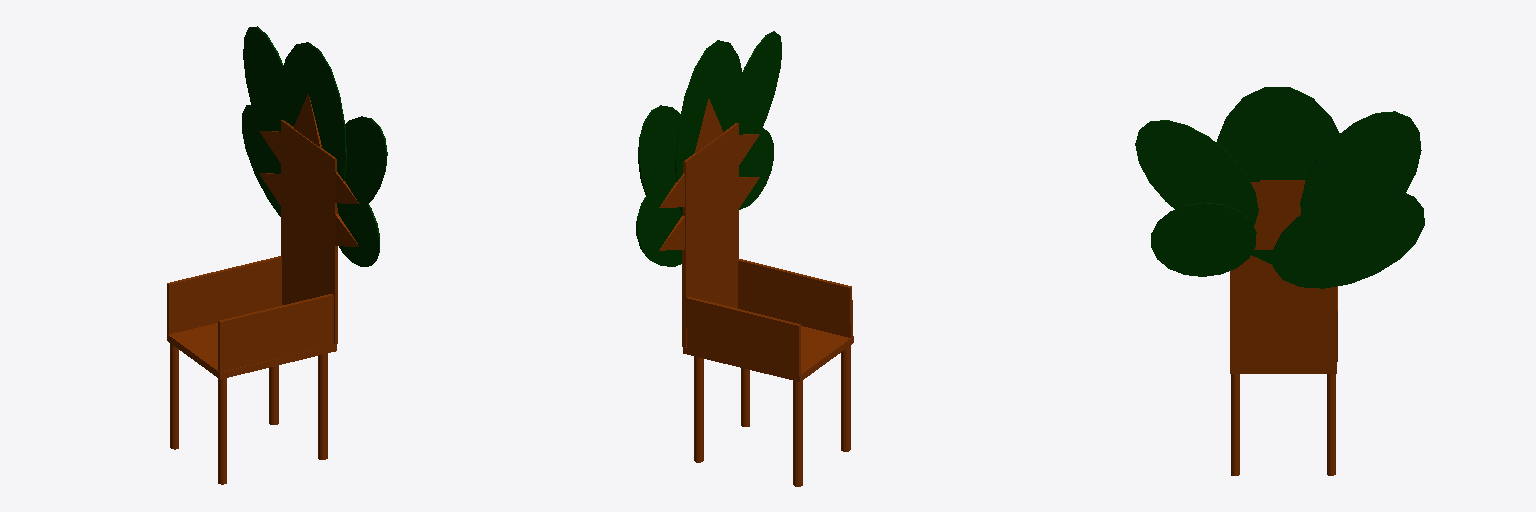
Rendered from trono.obj.
3 views of the same model, side by side, from view 1: azimuth 30°, elevation 25°; view 2: azimuth 150°, elevation 25°; view 3: azimuth 270°, elevation 25° (orthographic).
Visible parts, largest first — view 1: asiento001, asiento002, asiento003, Cylinder003, Cylinder001, Cylinder004, asiento, Cylinder002, Cylinder005, Cylinder009, Cylinder006, Cylinder007 (+2 smaller); view 2: asiento001, asiento003, asiento002, Cylinder003, Cylinder004, Cylinder001, asiento, Cylinder005, Cylinder002, Cylinder007, Cylinder008, Cylinder006 (+1 smaller); view 3: asiento001, Cylinder004, Cylinder003, Cylinder005, Cylinder001, Cylinder002, Cylinder009, Cylinder008, asiento.
Boxes of the visible parts, <box> form: asiento001: <box>281,120,337,344</box>; asiento002: <box>218,294,333,371</box>; asiento003: <box>167,256,281,334</box>; Cylinder003: <box>276,42,346,207</box>; Cylinder001: <box>338,116,387,212</box>; Cylinder004: <box>243,26,283,161</box>; asiento: <box>167,323,336,379</box>; Cylinder002: <box>338,204,379,266</box>; Cylinder005: <box>242,104,280,216</box>; Cylinder009: <box>318,353,327,459</box>; Cylinder006: <box>218,378,226,484</box>; Cylinder007: <box>170,343,178,449</box>; asiento001: <box>682,123,738,346</box>; asiento003: <box>686,297,800,376</box>; asiento002: <box>738,259,852,337</box>; Cylinder003: <box>675,40,745,214</box>; Cylinder004: <box>638,105,681,221</box>; Cylinder001: <box>739,31,781,168</box>; asiento: <box>683,326,853,381</box>; Cylinder005: <box>636,177,681,266</box>; Cylinder002: <box>739,128,773,209</box>; Cylinder007: <box>793,381,802,486</box>; Cylinder008: <box>694,356,703,462</box>; Cylinder006: <box>841,346,850,451</box>; asiento001: <box>1230,182,1336,367</box>; Cylinder004: <box>1300,111,1421,242</box>; Cylinder003: <box>1216,87,1339,264</box>; Cylinder005: <box>1273,190,1424,288</box>; Cylinder001: <box>1135,120,1258,225</box>; Cylinder002: <box>1151,203,1256,276</box>; Cylinder009: <box>1231,374,1239,475</box>; Cylinder008: <box>1327,374,1335,475</box>; asiento: <box>1230,368,1336,373</box>.
Bounding box in the file's own units: 12.79 × 39.51 × 26.34.